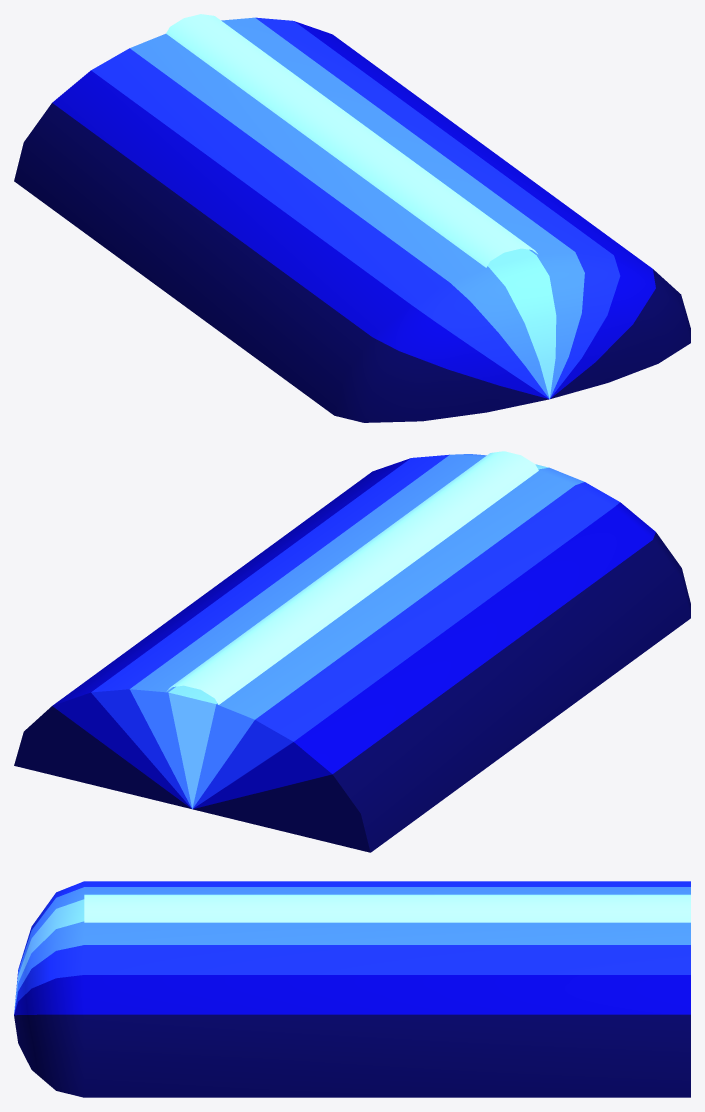
Rendered from shot_zica.glb.
3 renders of one model, top to bottom at view 1: azimuth 30°, elevation 25°; view 2: azimuth 150°, elevation 25°; view 3: azimuth 270°, elevation 25°, orthographic. The views are drawn at different scales.
Visible parts, largest first — view 1: shot_zica_rod, shot_zica_core; view 2: shot_zica_rod, shot_zica_core; view 3: shot_zica_rod, shot_zica_core.
Boxes of the visible parts, left/top/right/bottom form: shot_zica_rod: left=14, top=17, right=690, bottom=422; shot_zica_core: left=166, top=14, right=537, bottom=267; shot_zica_rod: left=14, top=454, right=690, bottom=852; shot_zica_core: left=166, top=451, right=538, bottom=704; shot_zica_rod: left=14, top=881, right=690, bottom=1097; shot_zica_core: left=84, top=894, right=690, bottom=922.
Bounding box in the file's own units: 9 × 2.93 × 15.62.
